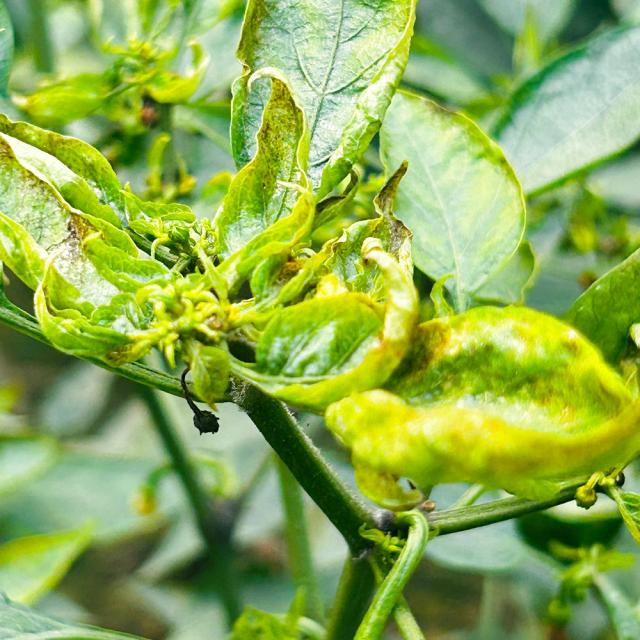Chilli_Leaf_Curl: (1, 1, 638, 635), (1, 81, 418, 418), (0, 112, 228, 409), (323, 301, 638, 513), (227, 0, 417, 203), (376, 85, 530, 313), (224, 235, 419, 414)
